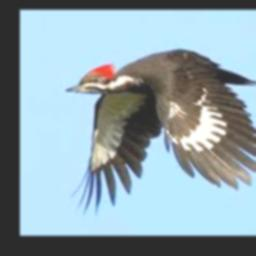Woodpecker: (66, 49, 256, 218)
